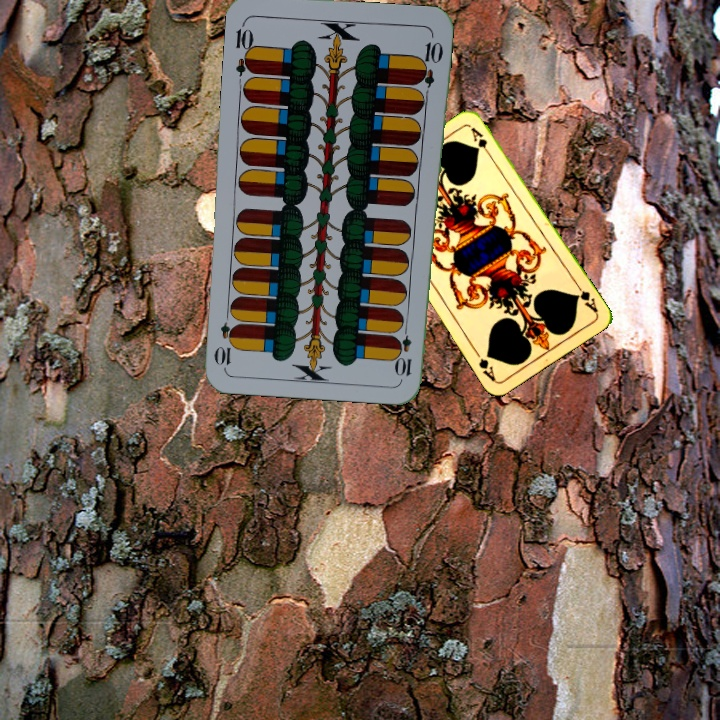E10: (231, 18, 258, 78), (395, 320, 414, 379)
GA: (572, 279, 601, 315)
